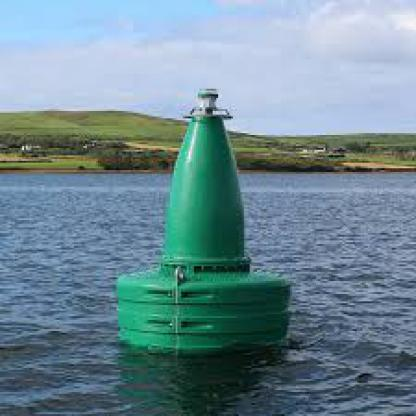buoy: (106, 83, 302, 357)
